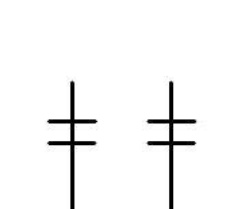115_buffer: (47, 119, 98, 145), (146, 119, 197, 145)
